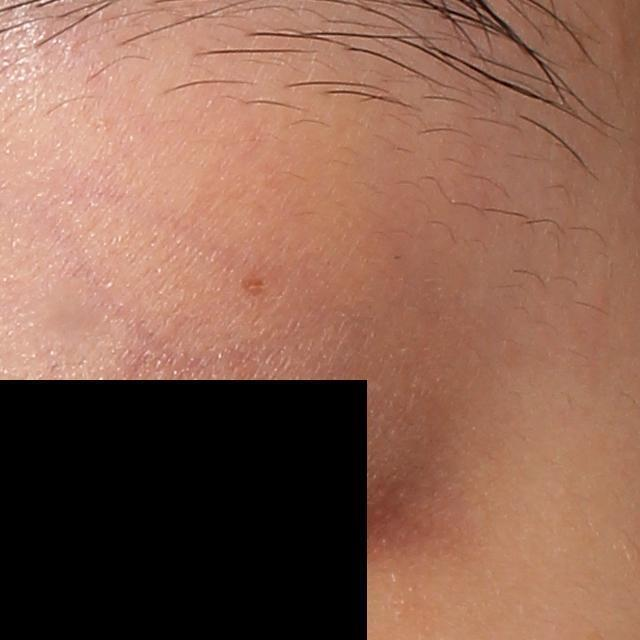nevus: (242, 269, 267, 301)
